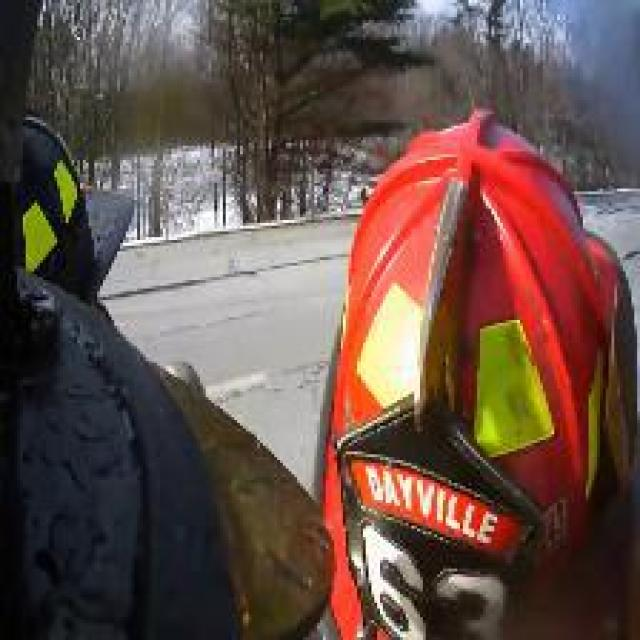other: (300, 115, 616, 546)
